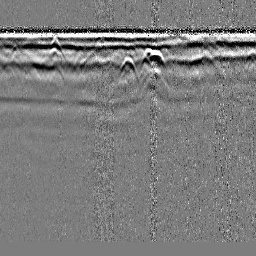cavity: (118, 55, 138, 78)
